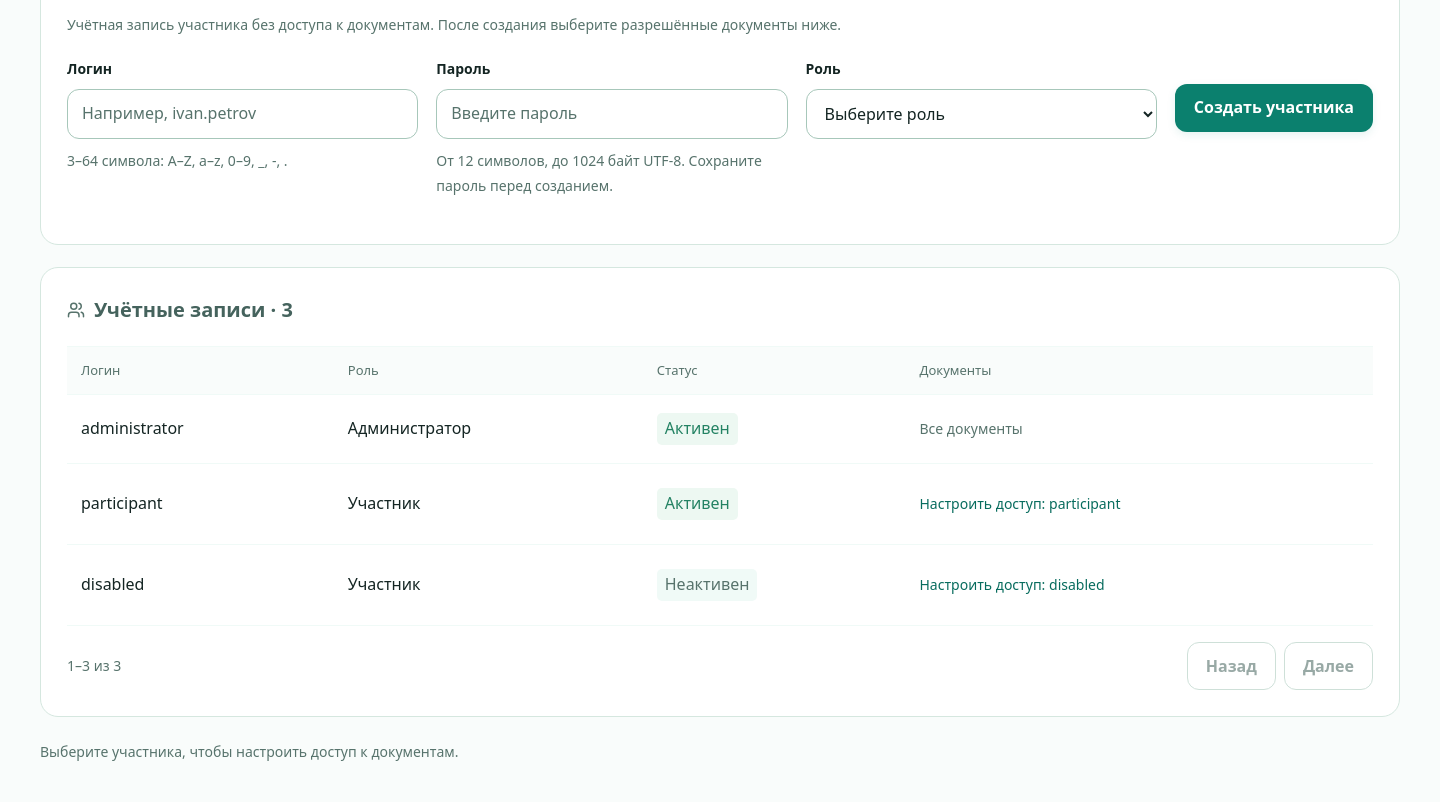
Test: selected user document access › keeps the old permission when a mutation fails
The image size is (1440, 802).
(page scrolled)
What coordinates should you click on to do the following:
click the button "Настроить доступ: participant"
I would click on:
 (1020, 504)
Its box is [919,482,1120,526].
(page scrolled)
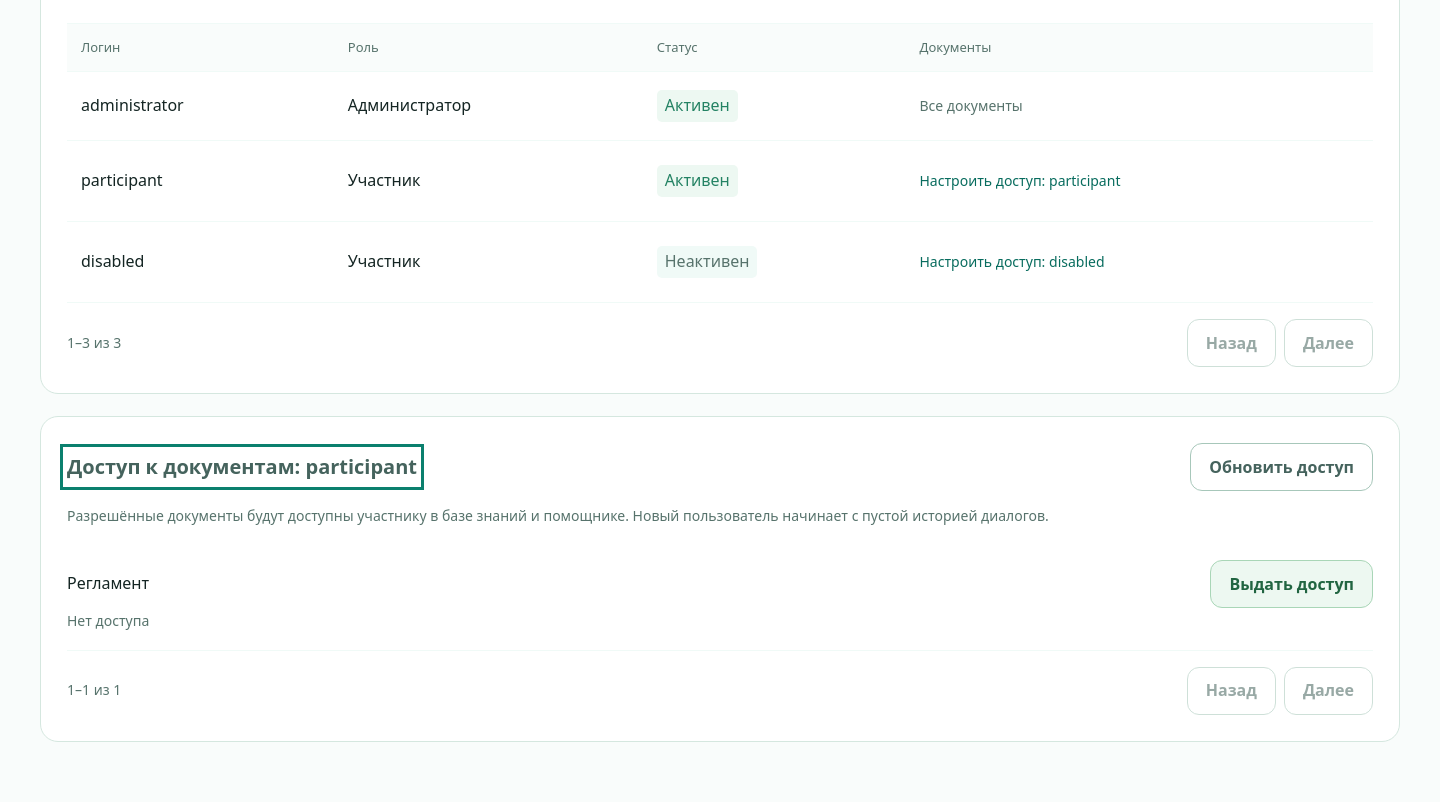
Expected: the button "Выдать доступ" is shown
What coordinates should you click on to do the following:
click the button "Выдать доступ"
I would click on:
 (1292, 584)
Its box is [1210,560,1373,608].
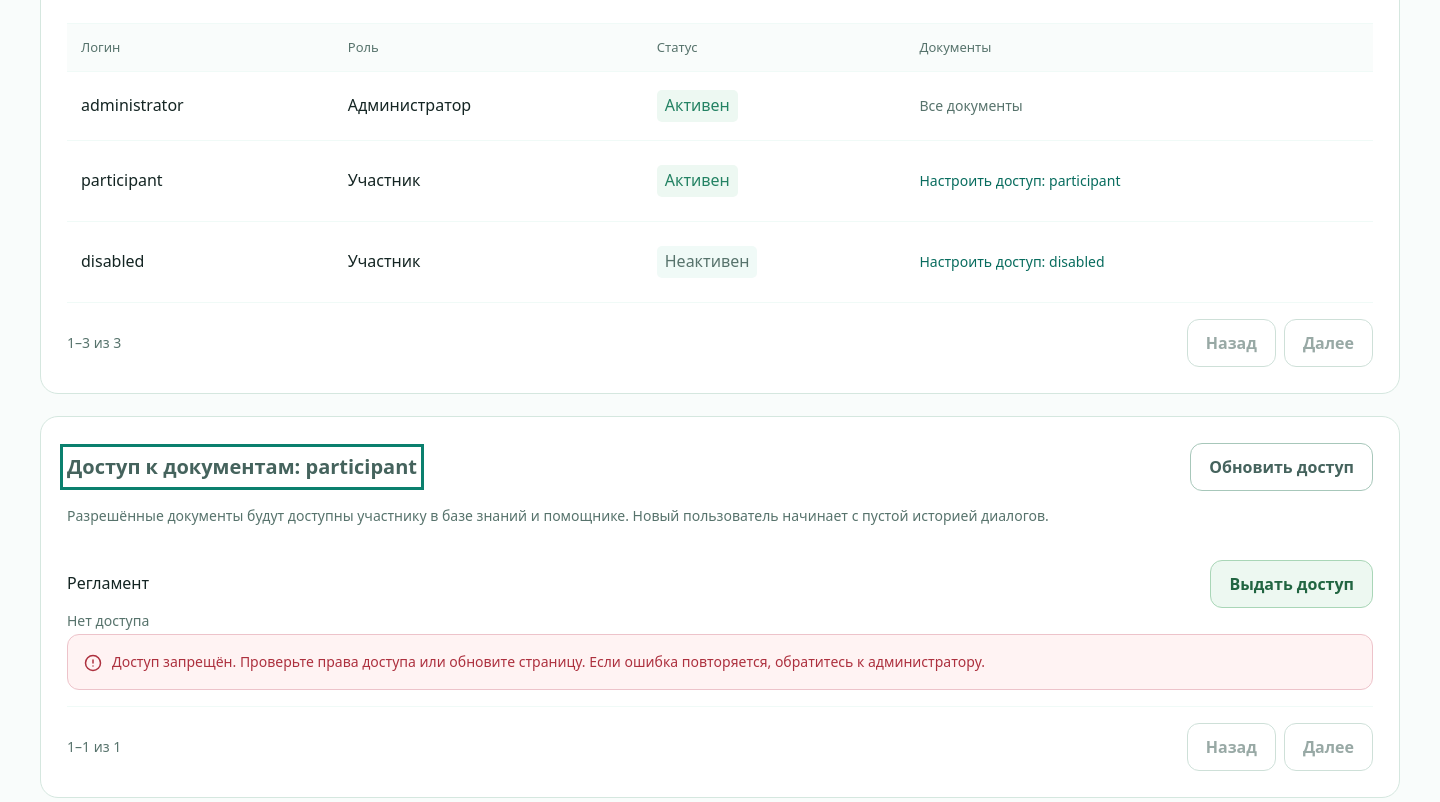
Expected: the text "Нет доступа" is shown, [67,611,149,630]
Expected: the message shows "Доступ запрещён", [112,652,985,670]
